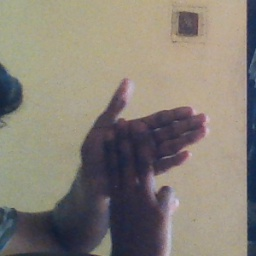M: (79, 75, 209, 234)
